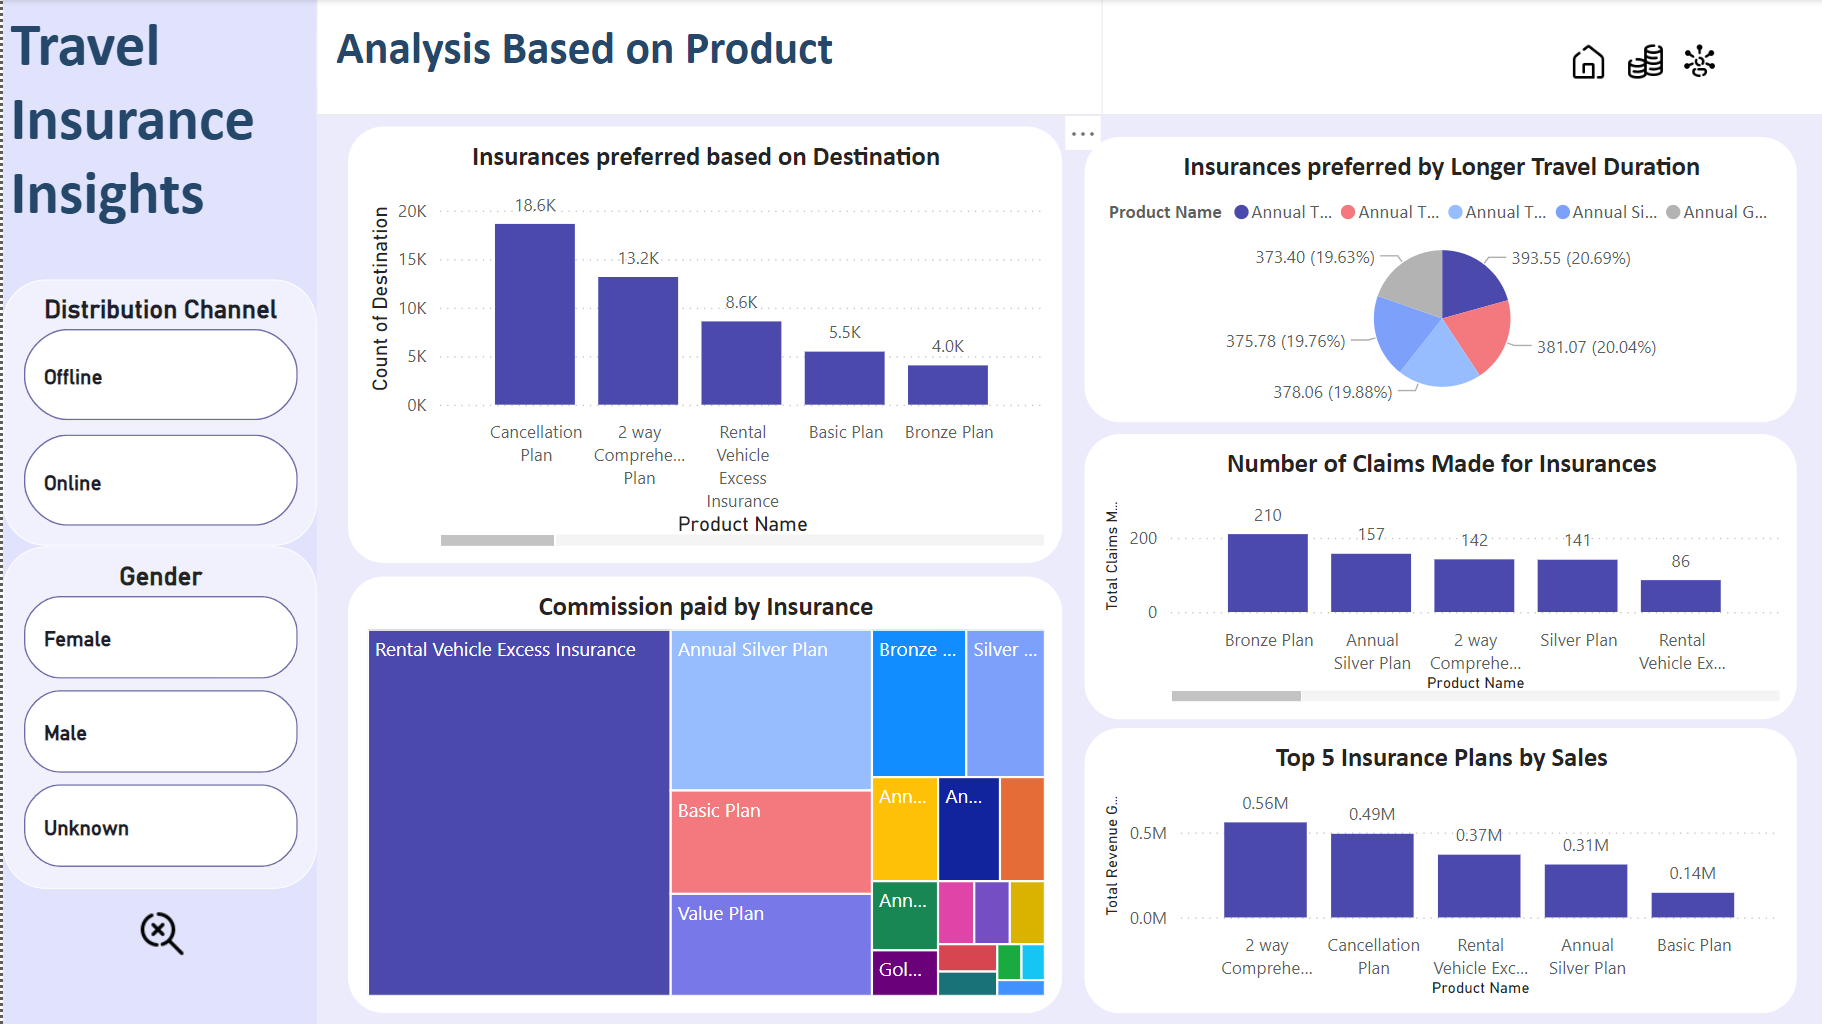

The page's visual inventory and layout, read from the dashboard file:
{"tool":"powerbi","page":{"name":"Product insights","canvas":[1280,720],"ordinal":1},"visuals":[{"type":"textbox","box":[219.8,0,1060,81],"z":0},{"type":"textbox","box":[0,0,220,720],"z":1000},{"type":"advancedSlicerVisual","fields":{"Values":["travel insurance dataset.Gender"]},"box":[0,383.4,220,240],"z":2000},{"type":"advancedSlicerVisual","fields":{"Values":["travel insurance dataset.Distribution Channel"]},"box":[0,196.8,220,186.7],"z":3000},{"type":"clusteredColumnChart","title":"Insurances preferred based on Destination","fields":{"Category":["travel insurance dataset.Product Name"],"Y":["CountNonNull(travel insurance dataset.Destination)"]},"box":[241.9,89.4,500.6,306],"z":4000},{"type":"clusteredColumnChart","title":"Number of Claims Made for Insurances","fields":{"Category":["travel insurance dataset.Product Name"],"Y":["travel insurance dataset.Total Claims Made"]},"box":[758.2,305,499.5,199.8],"z":5000},{"type":"treemap","title":"Commission paid by Insurance","fields":{"Group":["travel insurance dataset.Product Name"],"Values":["travel insurance dataset.Total Commission"]},"box":[241.9,404.9,500.6,306],"z":6000},{"type":"clusteredColumnChart","title":"Top 5 Insurance Plans by Sales","fields":{"Y":["travel insurance dataset.Total Revenue Generated"],"Category":["travel insurance dataset.Product Name"]},"box":[758.2,511.1,499.5,199.8],"z":7000},{"type":"pieChart","title":"Insurances preferred by Longer Travel Duration","fields":{"Category":["travel insurance dataset.Product Name"],"Y":["Avg(travel insurance dataset.Duration)"]},"box":[758.2,96.7,499.5,199.8],"z":8000},{"type":"textbox","box":[0,0,220,172.2],"z":9000},{"type":"textbox","box":[220,0,551.1,81.1],"z":10000},{"type":"image","box":[1131.6,24.2,38.9,40],"z":11000},{"type":"image","box":[1170.5,24.2,37.9,40],"z":12000},{"type":"image","box":[1091.6,24.2,40,40],"z":13000},{"type":"image","box":[86.2,629.9,50.5,50.5],"z":14000}]}

Visuals, with their boxes in screenshot pixels (x1, y1, x2, y2), scaled from the page's 1280x720 canvas onto the 1822x1024 screenshot:
textbox: <box>313,0,1821,115</box>
textbox: <box>0,0,313,1023</box>
advancedSlicerVisual - travel insurance dataset.Gender: <box>0,545,313,887</box>
advancedSlicerVisual - travel insurance dataset.Distribution Channel: <box>0,280,313,545</box>
"Insurances preferred based on Destination" clusteredColumnChart: <box>344,127,1057,562</box>
"Number of Claims Made for Insurances" clusteredColumnChart: <box>1079,434,1790,718</box>
"Commission paid by Insurance" treemap: <box>344,576,1057,1011</box>
"Top 5 Insurance Plans by Sales" clusteredColumnChart: <box>1079,727,1790,1011</box>
"Insurances preferred by Longer Travel Duration" pieChart: <box>1079,138,1790,422</box>
textbox: <box>0,0,313,245</box>
textbox: <box>313,0,1098,115</box>
image: <box>1611,34,1666,91</box>
image: <box>1666,34,1720,91</box>
image: <box>1554,34,1611,91</box>
image: <box>123,896,195,968</box>
